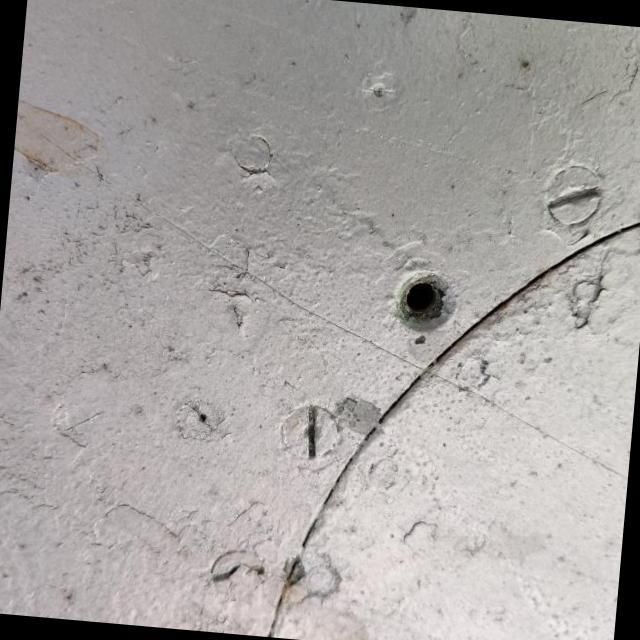Fastener Damage: (360, 238, 488, 368)
